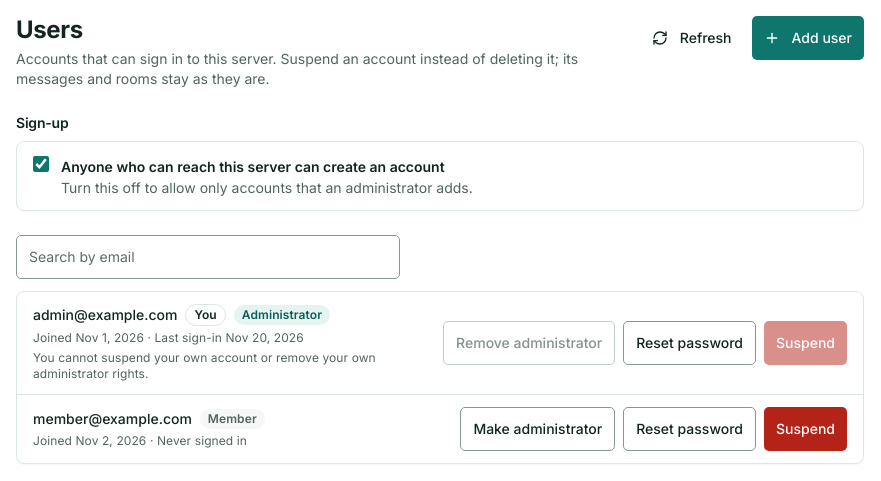
Test: [AUTH-20] closes sign-up from the settings switch
The width and height of the screenshot is (881, 481).
Step 1. Click the checkbox with test id "users-registration-open" → (41, 164), box [33,156,49,172]
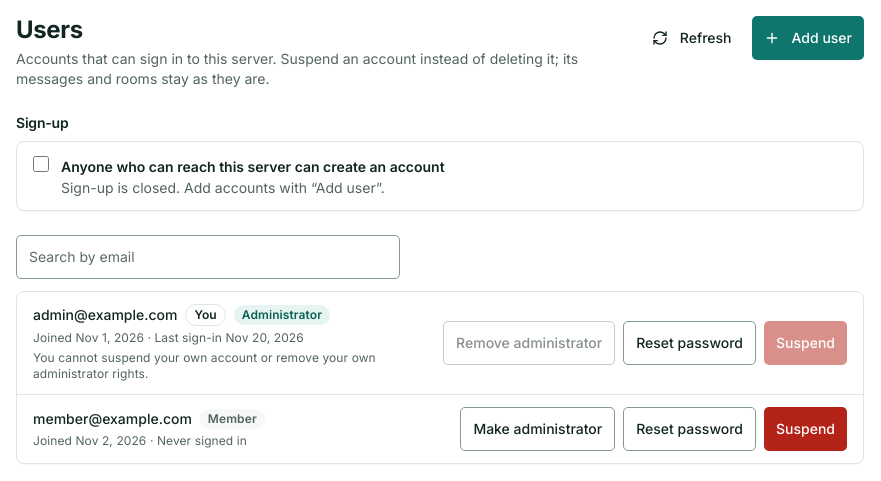
Now the checkbox with test id "users-registration-open" is not checked, box [33,156,49,172]
Now the text "Sign-up is closed. Add accounts with “Add user”." is shown, box [61,179,385,196]
